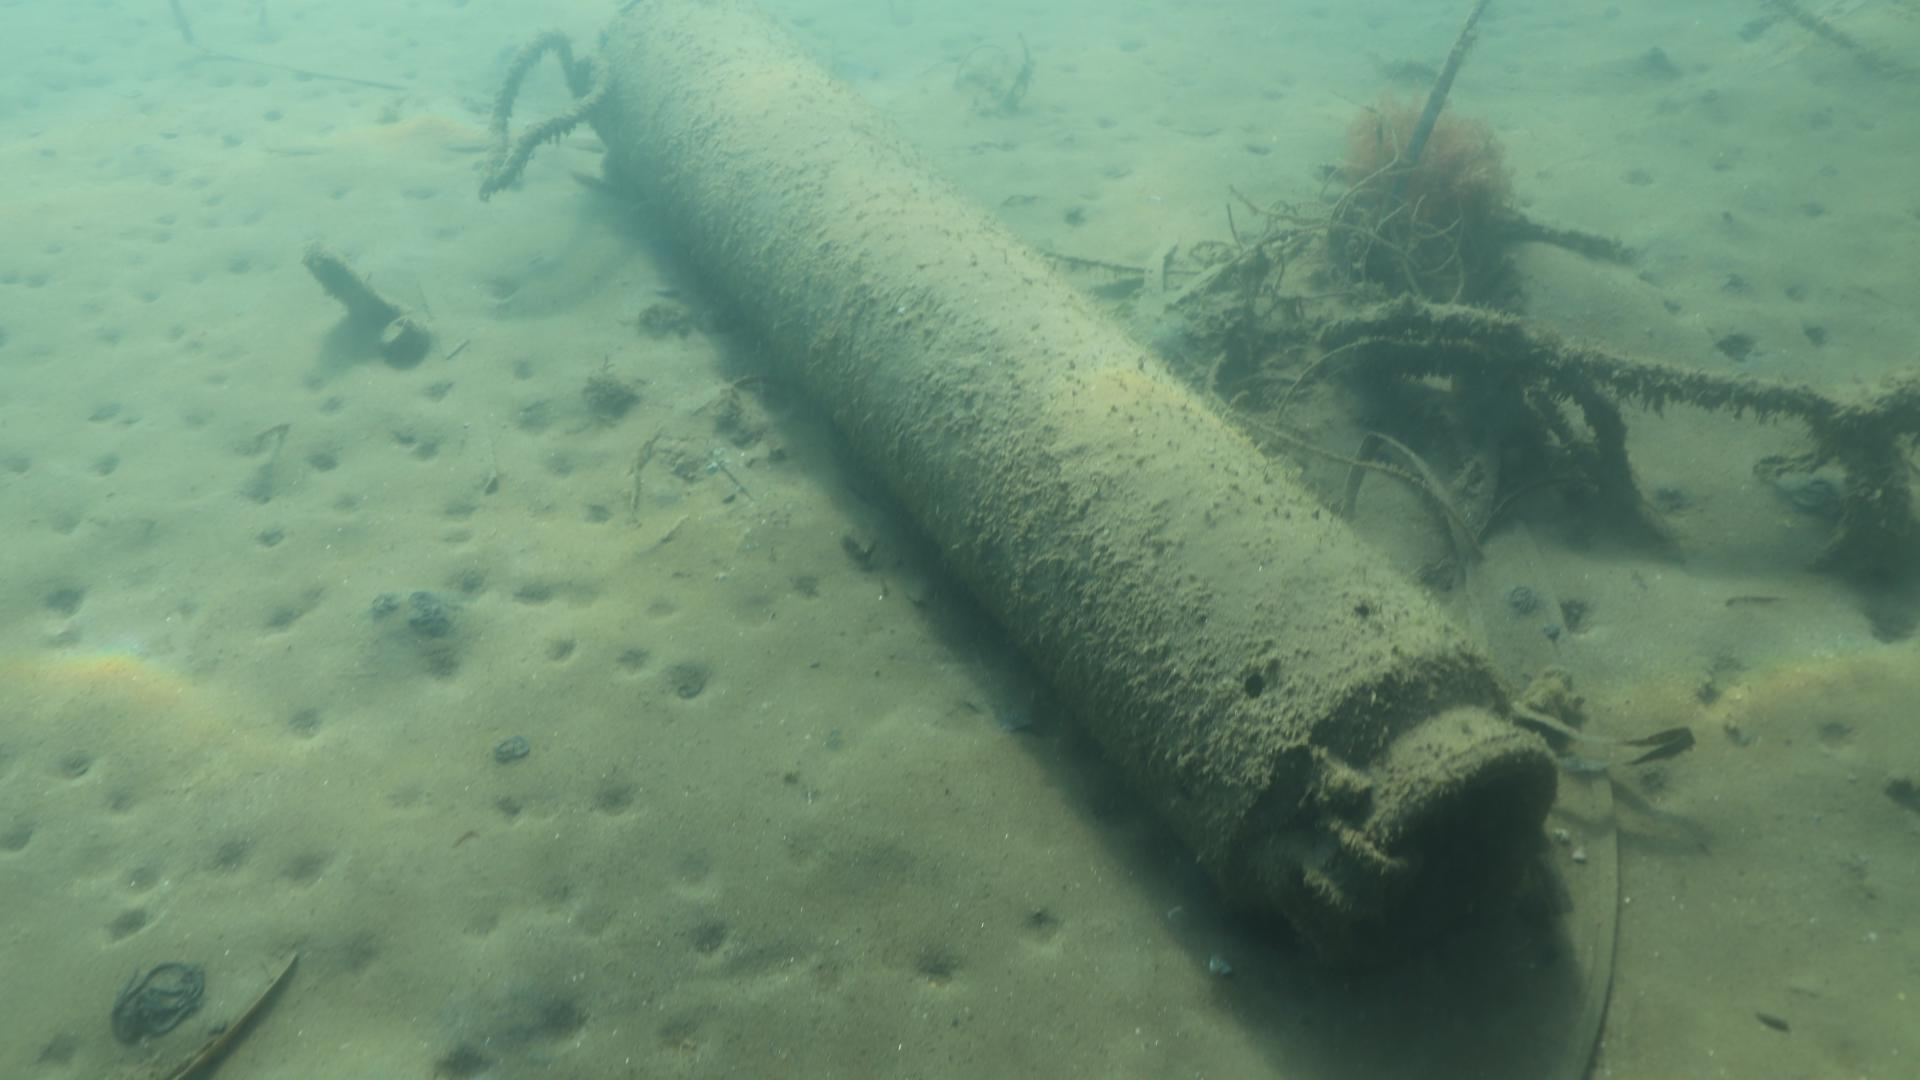eel fish trap: (579, 3, 1556, 975)
rope: (477, 24, 611, 195)
